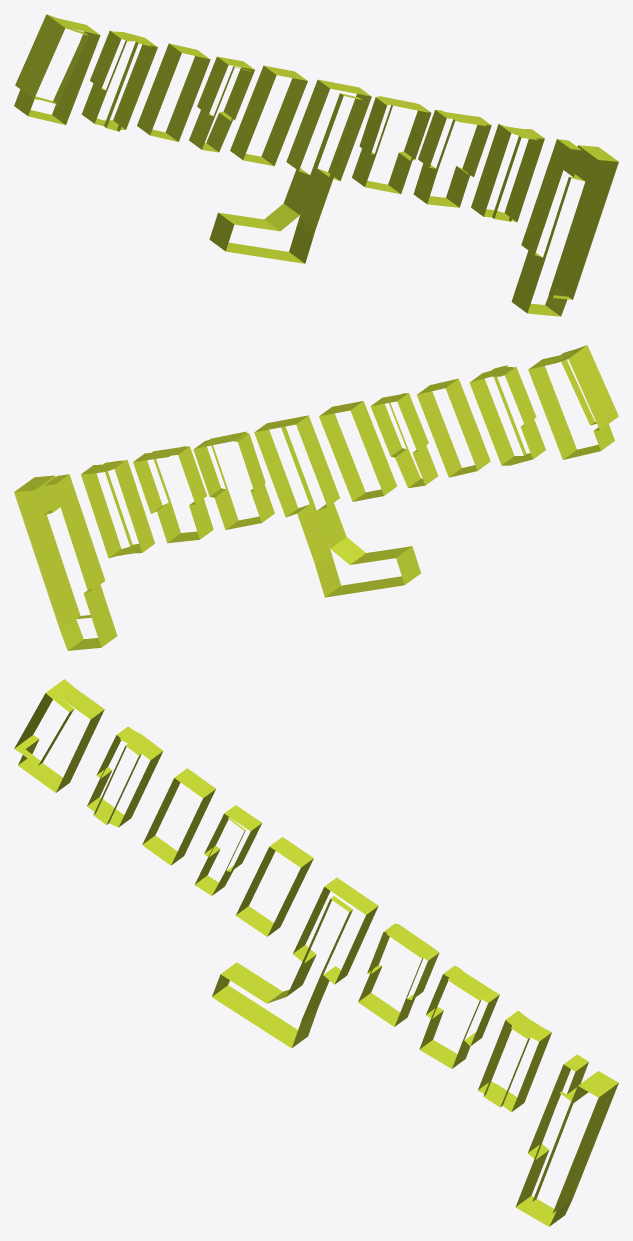
The model's file is Wall_Hini_4.0_Slope_0.5.obj.
3 views of the same model, one above another, from view 1: azimuth 30°, elevation 25°; view 2: azimuth 150°, elevation 25°; view 3: azimuth 330°, elevation 25° (orthographic).
Parts seen in each view (by area): view 1: 1, 6, 2, 10, 3, 5, 8, 4, 9, 7; view 2: 1, 6, 2, 10, 3, 5, 8, 4, 9, 7; view 3: 6, 1, 2, 5, 10, 3, 4, 8, 9, 7.
Part boxes in pixels (box(x1,y1,x2,y2)): 1: box(511, 139, 618, 316); 6: box(209, 79, 371, 263); 2: box(14, 14, 100, 124); 10: box(81, 30, 157, 131); 3: box(471, 124, 544, 222); 5: box(413, 109, 491, 207); 8: box(230, 65, 307, 166); 4: box(352, 96, 431, 194); 9: box(137, 43, 210, 141); 7: box(189, 56, 254, 152); 1: box(14, 474, 117, 650); 6: box(254, 415, 420, 597); 2: box(528, 345, 618, 459); 10: box(469, 365, 545, 465); 3: box(81, 459, 154, 558); 5: box(133, 445, 213, 543); 8: box(319, 401, 397, 501); 4: box(193, 431, 274, 529); 9: box(417, 378, 490, 477); 7: box(370, 393, 438, 488); 6: box(212, 877, 378, 1048); 1: box(515, 1054, 618, 1226); 2: box(14, 679, 104, 792); 5: box(419, 965, 499, 1068); 10: box(87, 726, 163, 827); 3: box(478, 1010, 551, 1111); 4: box(358, 923, 439, 1026); 8: box(236, 837, 313, 936); 9: box(142, 768, 215, 865); 7: box(194, 805, 261, 895).
Bounding box in the file's own units: 135 × 91 × 8.13.
